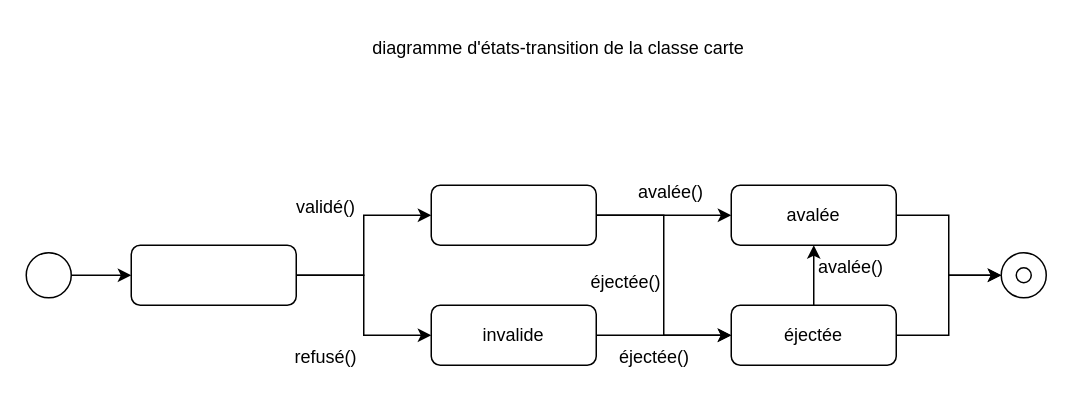
The diagram is 1073 pixels wide and 405 high, and some of its shapes have lost their labels. The centre of each missing label's shape, as x and y in pixels:
insérée: (213,274)
valide: (513,214)
